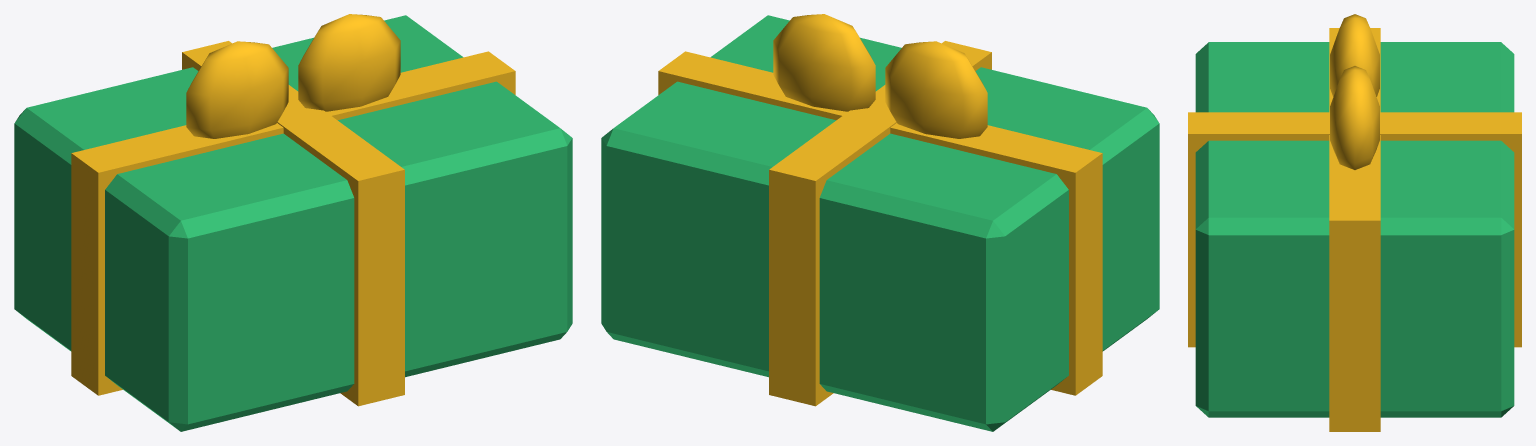
Rendered from Intro_Present_B.fbx.
The picture shows the model from 3 angles, left to right: view 1: azimuth 30°, elevation 25°; view 2: azimuth 150°, elevation 25°; view 3: azimuth 270°, elevation 25°; orthographic projection. The views are drawn at different scales.
Visible parts, largest first — view 1: Intro_Present_B; view 2: Intro_Present_B; view 3: Intro_Present_B.
Boxes of the visible parts, x1,y1,x2,y2 form: Intro_Present_B: (14,14,572,431); Intro_Present_B: (601,14,1159,431); Intro_Present_B: (1188,14,1521,431).
Size of the model in its own units: 3.72 by 2.63 by 2.72.
Materials: 1 (1 with a texture image).
